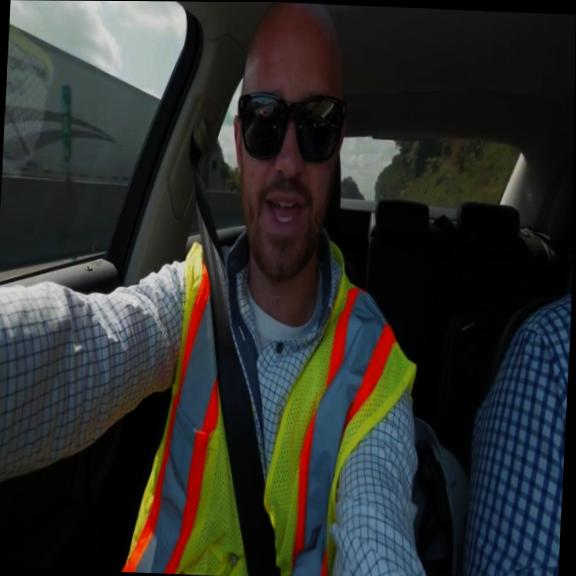safety_vest: (118, 230, 424, 576)
